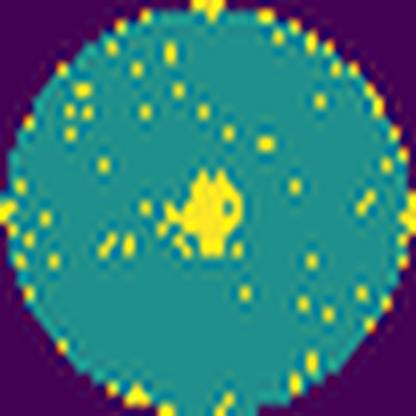Center: (163, 167, 246, 261)
